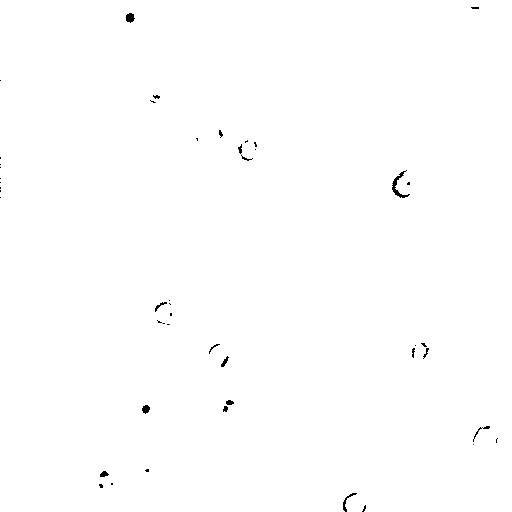micro-algae: (282, 83, 422, 219), (344, 0, 424, 39), (129, 443, 168, 486), (86, 459, 123, 497), (472, 421, 504, 459), (125, 390, 159, 425), (113, 1, 147, 35), (187, 123, 221, 157), (221, 111, 256, 144), (390, 169, 421, 200), (319, 0, 367, 20), (219, 398, 247, 431), (153, 297, 182, 326), (405, 336, 430, 367), (205, 343, 230, 371), (236, 137, 261, 162), (341, 491, 368, 512), (463, 0, 488, 9)
